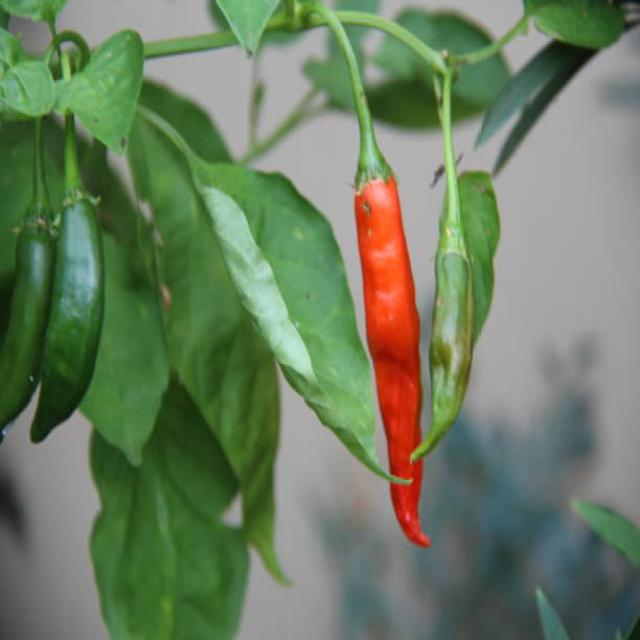Ripe: (355, 176, 429, 546)
Unripe: (411, 74, 475, 458), (30, 201, 104, 441), (0, 229, 55, 428)
